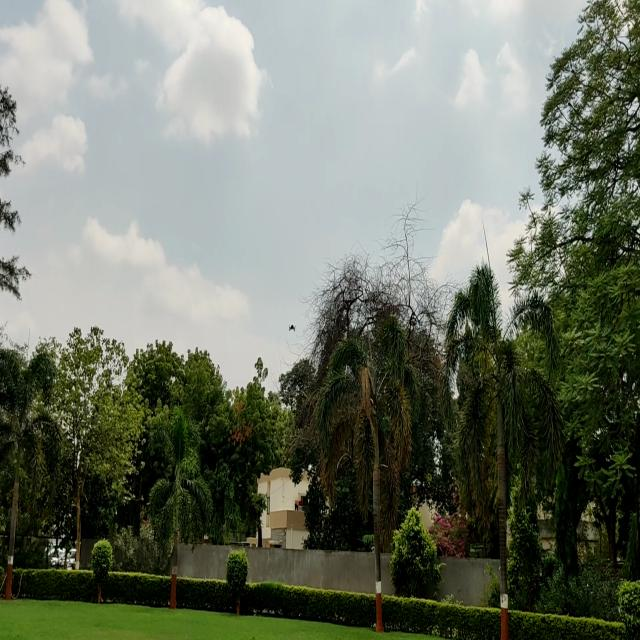drone: (285, 322, 299, 338)
